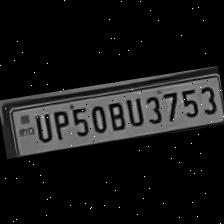0: (85, 100, 108, 134)
3: (195, 80, 219, 116), (140, 90, 164, 124)
5: (66, 103, 92, 139), (176, 84, 201, 120)
7: (158, 88, 181, 122)
B: (104, 96, 128, 132)
P: (47, 106, 71, 142)
U: (28, 109, 53, 145), (122, 92, 146, 128)
